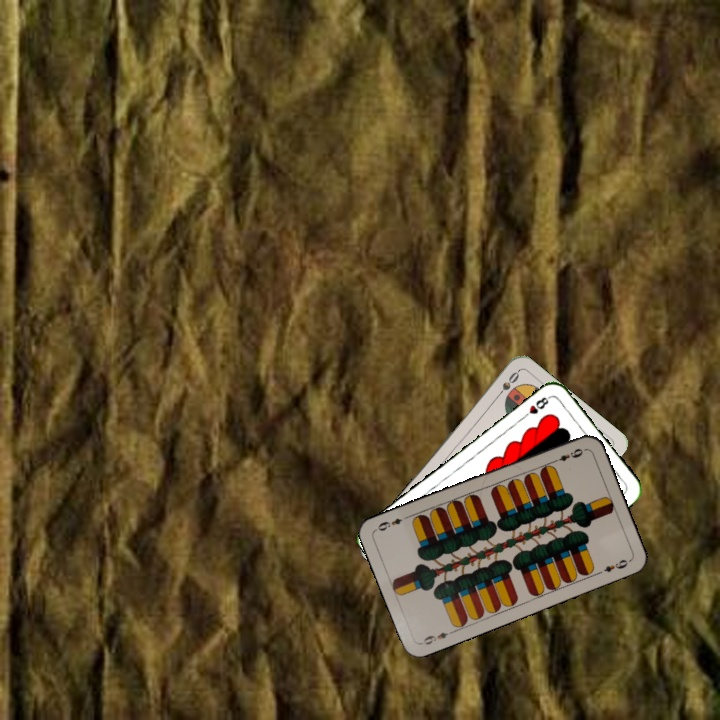E9: (548, 444, 588, 465), (417, 627, 457, 647)
H8: (518, 392, 553, 422)
SO: (492, 367, 522, 402)
